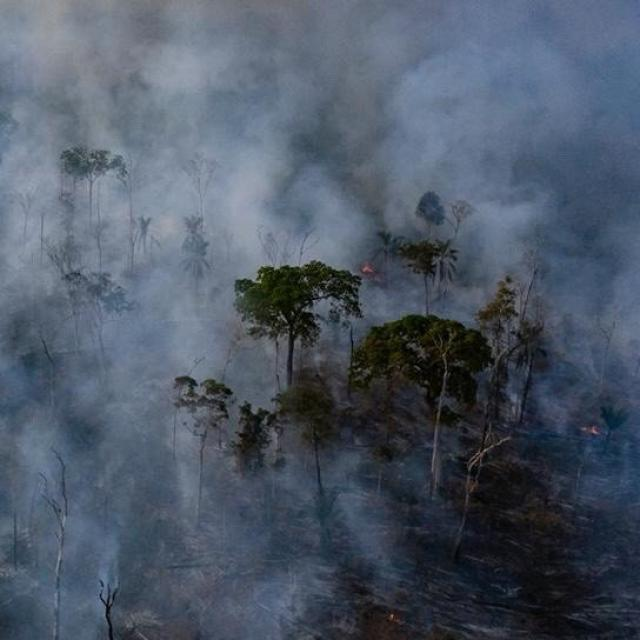Smoke: (0, 278, 376, 638), (0, 0, 365, 275), (366, 0, 640, 315)
